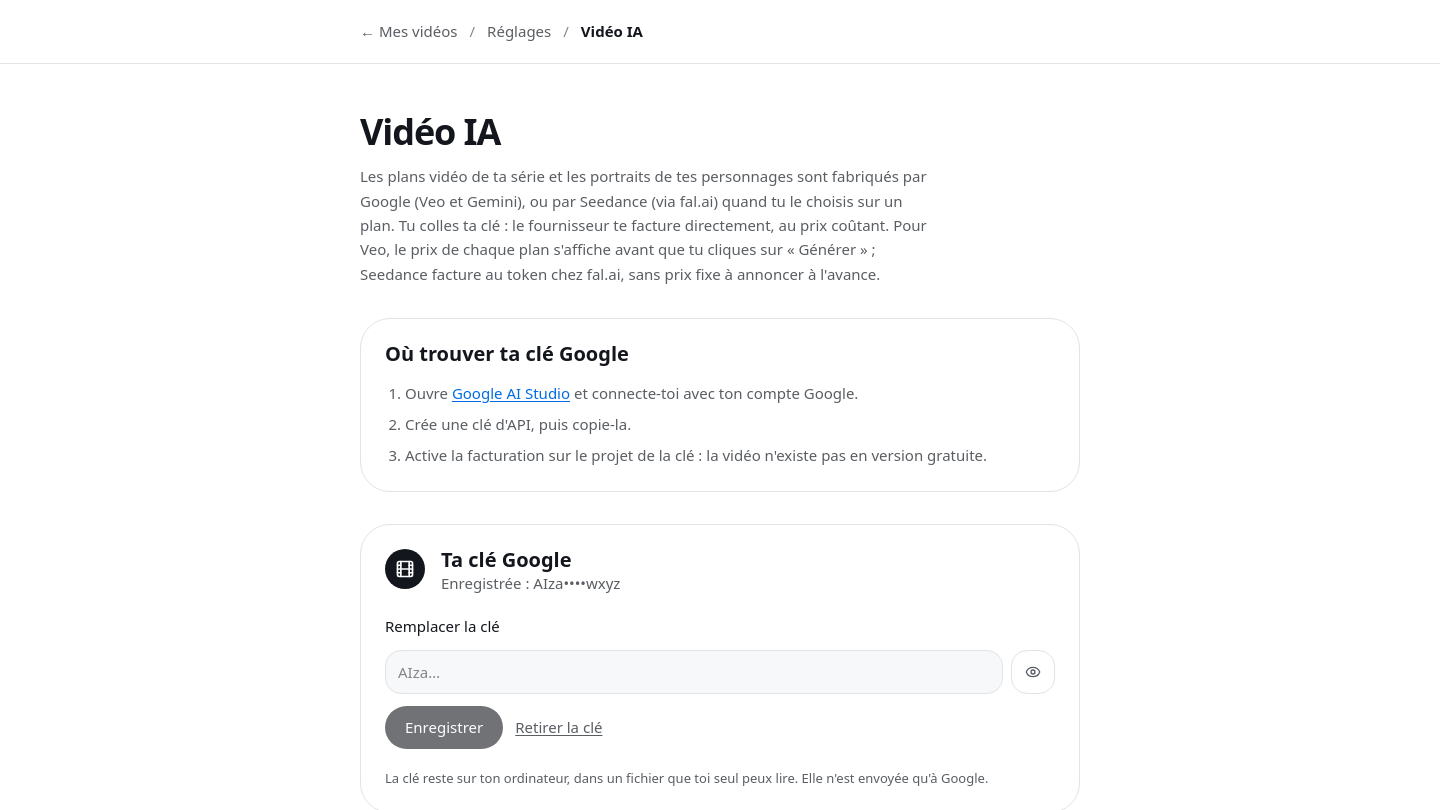
Scenario: Réglages · Vidéo IA — Google (Veo) › une clé présente se retire
Click the button "Retirer la clé" at (559, 728), box [515,716,602,740]
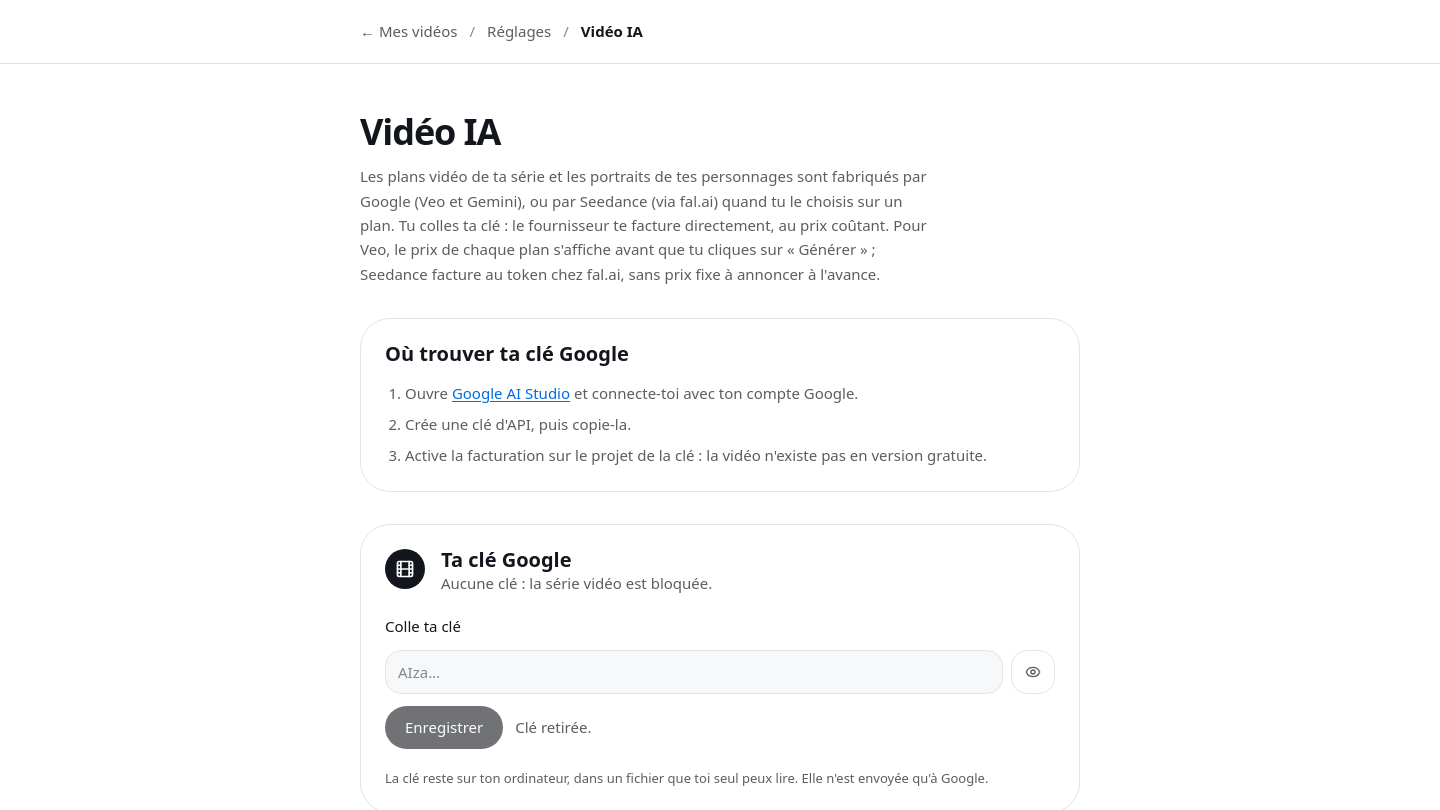
Check: the text "Clé retirée." is shown, box [515,716,591,740]
